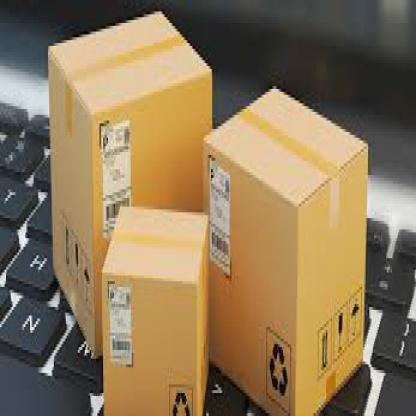paquete: (195, 69, 385, 413), (36, 17, 218, 359), (84, 187, 217, 413)
